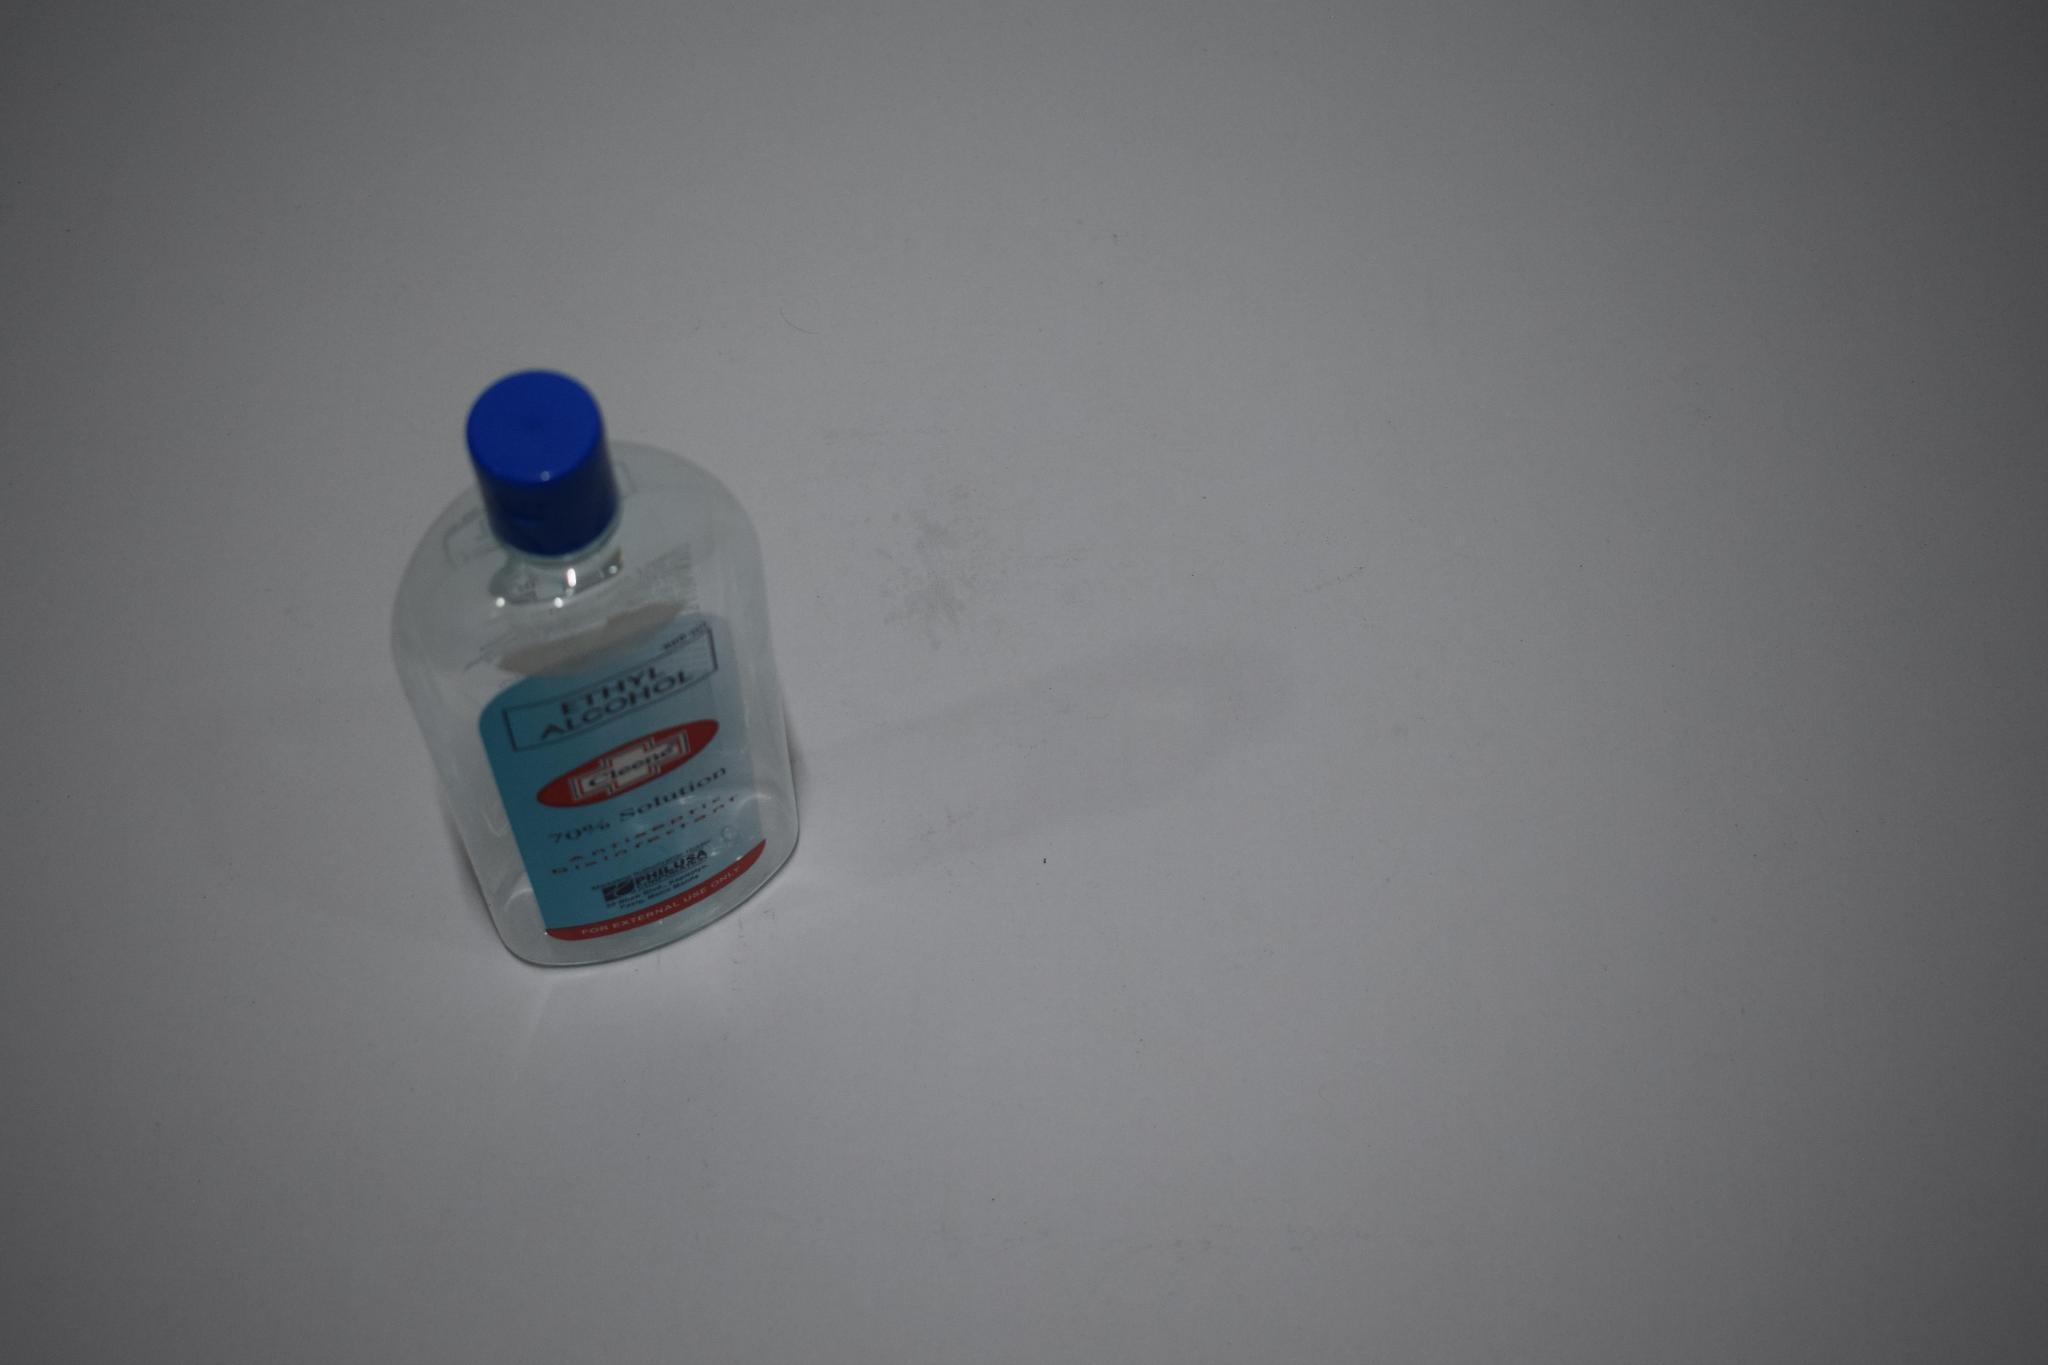bottle: (382, 396, 812, 941)
